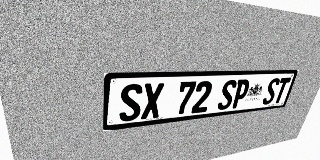2: (191, 81, 213, 113)
7: (174, 81, 197, 116)
P: (230, 79, 251, 109)
S: (119, 84, 143, 122), (217, 80, 238, 110), (261, 78, 281, 105)
T: (272, 77, 291, 104)
X: (141, 83, 164, 120)
